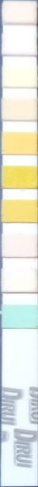color 1: (3, 5, 35, 22)
color 10: (3, 307, 38, 327)
color 2: (3, 36, 35, 53)
color 3: (2, 68, 36, 85)
color 4: (2, 101, 35, 118)
color 5: (3, 134, 36, 153)
color 6: (2, 166, 36, 187)
color 7: (3, 202, 38, 221)
color 8: (3, 237, 38, 255)
color 9: (2, 271, 38, 291)
